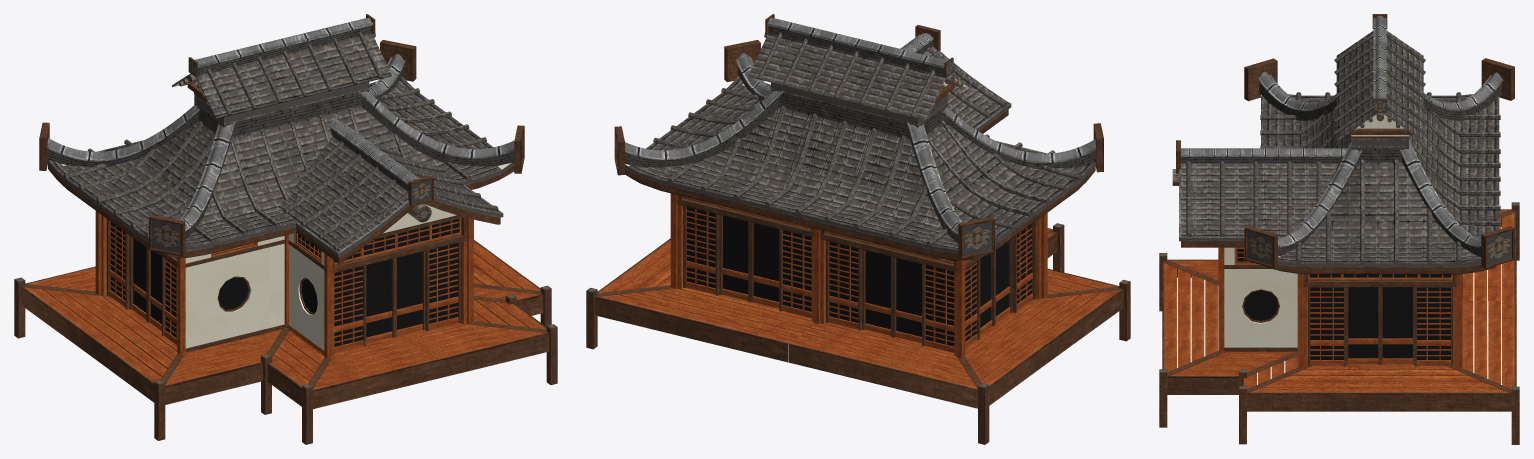
File: japanese_house.glb
3 renders of one model, left to right at view 1: azimuth 30°, elevation 25°; view 2: azimuth 150°, elevation 25°; view 3: azimuth 270°, elevation 25°, orthographic. The views are drawn at different scales.
Parts seen in each view (by area): view 1: JapaneseHouse_House_0, Glass_Glass_0; view 2: JapaneseHouse_House_0, Glass_Glass_0; view 3: JapaneseHouse_House_0, Glass_Glass_0.
Boxes of the visible parts, bbox=[...] form: JapaneseHouse_House_0: bbox=[14, 14, 557, 444]; Glass_Glass_0: bbox=[111, 219, 458, 346]; JapaneseHouse_House_0: bbox=[586, 14, 1130, 444]; Glass_Glass_0: bbox=[687, 207, 1031, 346]; JapaneseHouse_House_0: bbox=[1159, 14, 1519, 444]; Glass_Glass_0: bbox=[1237, 249, 1451, 359].
Size of the model in its own units: 11.18 by 8.17 by 9.08.
Materials: 2 (1 with a texture image).
